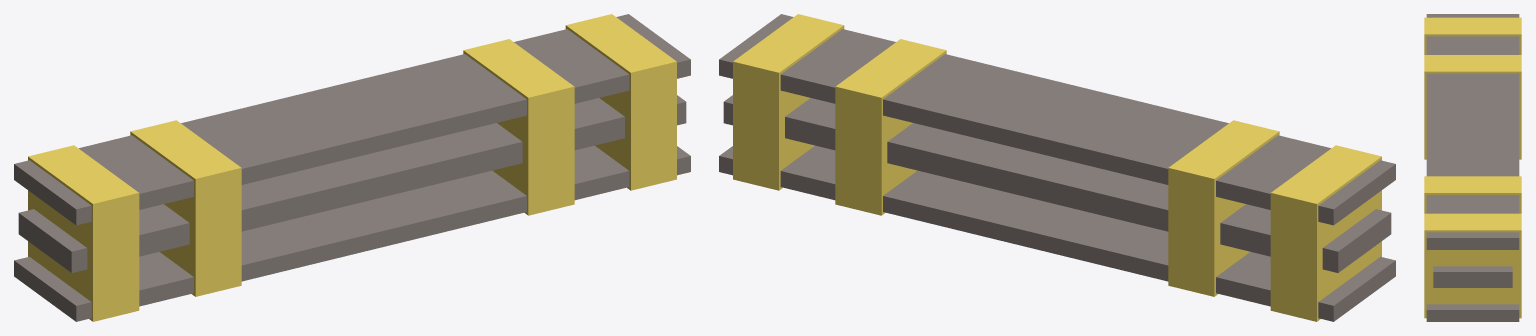
The model's file is obs_01_broken_girder.glb.
3 renders of one model, left to right at view 1: azimuth 30°, elevation 25°; view 2: azimuth 150°, elevation 25°; view 3: azimuth 270°, elevation 25°, orthographic. The views are drawn at different scales.
Visible parts, largest first — view 1: Obs01_BrokenGirder; view 2: Obs01_BrokenGirder; view 3: Obs01_BrokenGirder.
Boxes of the visible parts, x1,y1,x2,y2 form: Obs01_BrokenGirder: [14, 14, 690, 321]; Obs01_BrokenGirder: [719, 14, 1395, 321]; Obs01_BrokenGirder: [1424, 14, 1521, 321].
Bounding box in the file's own units: 2.4 × 0.44 × 0.44.
